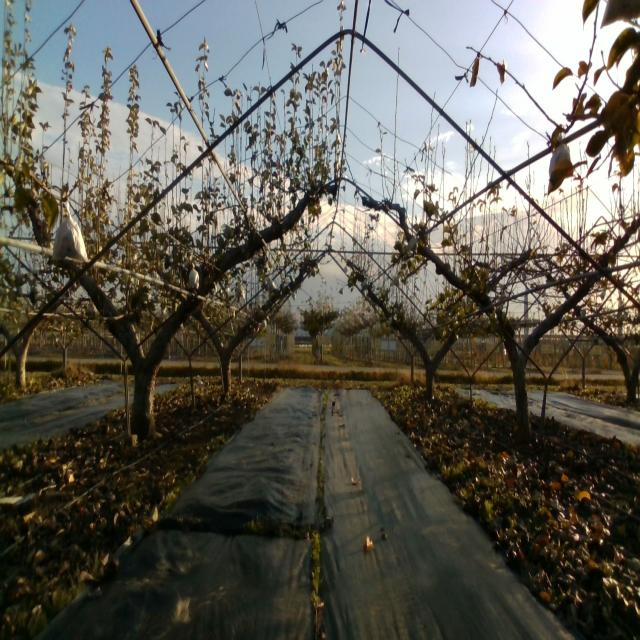pearbags: (53, 199, 88, 264), (550, 128, 572, 179), (188, 261, 200, 288), (406, 237, 419, 255), (236, 281, 246, 301)
